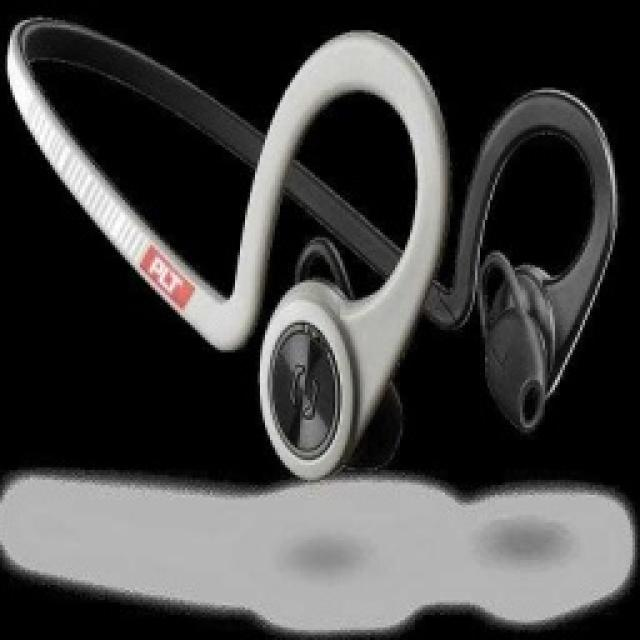headphones: (2, 12, 620, 480)
